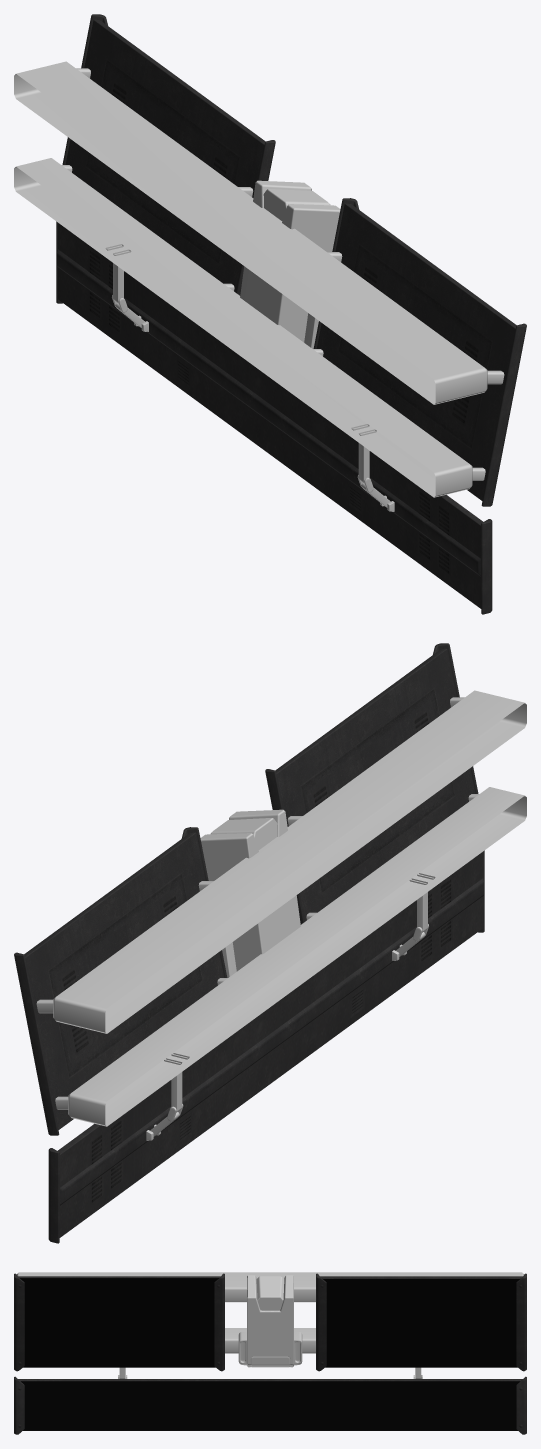
Rendered from Screen_6.fbx.
3 views of the same model, one above another, from view 1: azimuth 30°, elevation 25°; view 2: azimuth 150°, elevation 25°; view 3: azimuth 270°, elevation 25° (orthographic). The views are drawn at different scales.
Visible parts, largest first — view 1: Cylinder.043, Cube.240, Cube.216, Cube.215; view 2: Cylinder.043, Cube.240, Cube.215, Cube.216; view 3: Cube.240, Cube.215, Cube.216, Cylinder.043.
Part boxes in pixels (left/top/right/bottom): Cylinder.043: left=14, top=61, right=504, bottom=511; Cube.240: left=56, top=221, right=492, bottom=614; Cube.216: left=313, top=198, right=526, bottom=506; Cube.215: left=62, top=14, right=275, bottom=295; Cylinder.043: left=36, top=690, right=526, bottom=1140; Cube.240: left=48, top=850, right=484, bottom=1243; Cube.215: left=14, top=827, right=227, bottom=1135; Cube.216: left=265, top=643, right=478, bottom=924; Cube.240: left=14, top=1376, right=526, bottom=1434; Cube.215: left=316, top=1273, right=526, bottom=1371; Cube.216: left=14, top=1273, right=224, bottom=1371; Cylinder.043: left=16, top=1272, right=524, bottom=1378.
Bounding box in the file's own units: 122 × 328 × 904.
